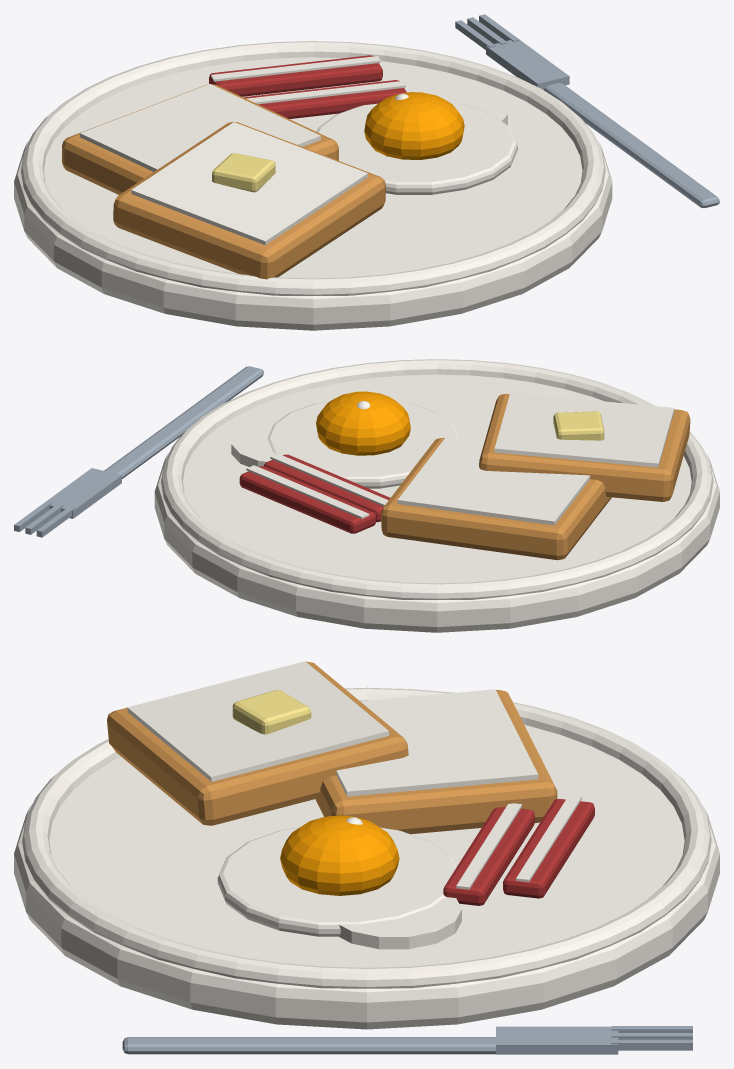
The model's file is Collectible_BreakfastPlate.glb.
3 views of the same model, one above another, from view 1: azimuth 30°, elevation 25°; view 2: azimuth 150°, elevation 25°; view 3: azimuth 270°, elevation 25° (orthographic). The views are drawn at different scales.
Visible parts, largest first — view 1: Collectible_BreakfastPlate; view 2: Collectible_BreakfastPlate; view 3: Collectible_BreakfastPlate.
Boxes of the visible parts, left/top/right/bottom form: Collectible_BreakfastPlate: left=14, top=14, right=719, bottom=330; Collectible_BreakfastPlate: left=14, top=359, right=719, bottom=632; Collectible_BreakfastPlate: left=14, top=661, right=719, bottom=1054.
Size of the model in its own units: 0.286 by 0.048 by 0.26.
